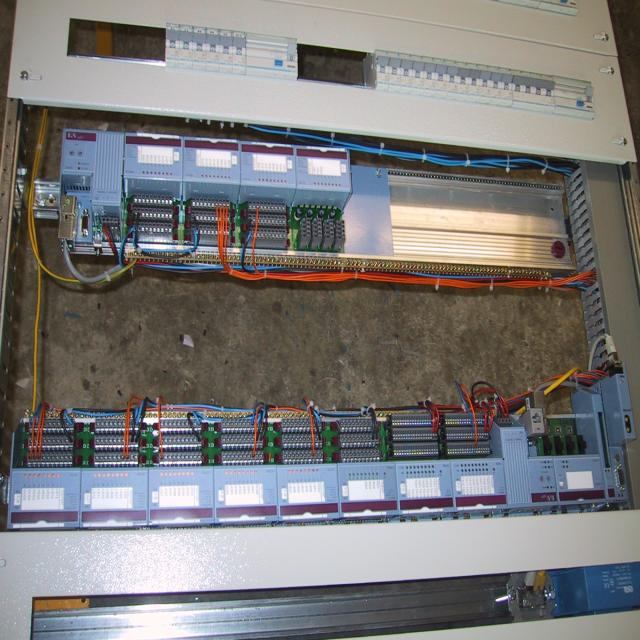FI: (246, 32, 298, 81), (554, 77, 596, 121)
Klemmenleiste: (149, 411, 212, 464), (88, 413, 151, 464), (24, 414, 82, 466), (214, 413, 270, 463), (272, 414, 328, 462), (243, 199, 293, 249), (187, 198, 237, 247), (126, 195, 179, 241), (441, 409, 492, 455), (389, 414, 444, 456), (335, 418, 386, 459), (300, 217, 345, 251)
Leitungsschutzschalter: (371, 49, 390, 91), (421, 55, 437, 97), (445, 58, 461, 100), (192, 25, 206, 72), (410, 54, 426, 95), (487, 65, 503, 106), (519, 70, 535, 111), (218, 29, 232, 75), (387, 51, 402, 92), (510, 69, 525, 110), (541, 73, 556, 114), (456, 61, 471, 101), (499, 67, 514, 107), (232, 31, 245, 77), (399, 53, 413, 95), (434, 57, 448, 98), (179, 24, 192, 68), (166, 22, 178, 69), (478, 64, 492, 104), (531, 72, 545, 112), (467, 63, 481, 102), (206, 27, 218, 72)
SPS-System -Steuerungskomponente-: (494, 413, 559, 509), (6, 468, 82, 531), (61, 129, 124, 204), (80, 467, 148, 527), (149, 468, 215, 526), (216, 465, 280, 523), (276, 465, 341, 521), (338, 463, 399, 521), (397, 463, 456, 519), (452, 460, 507, 513), (239, 142, 297, 191), (295, 146, 353, 195), (126, 134, 184, 182), (554, 457, 609, 506), (183, 138, 242, 182)
Schaltkasten: (0, 0, 639, 639)
